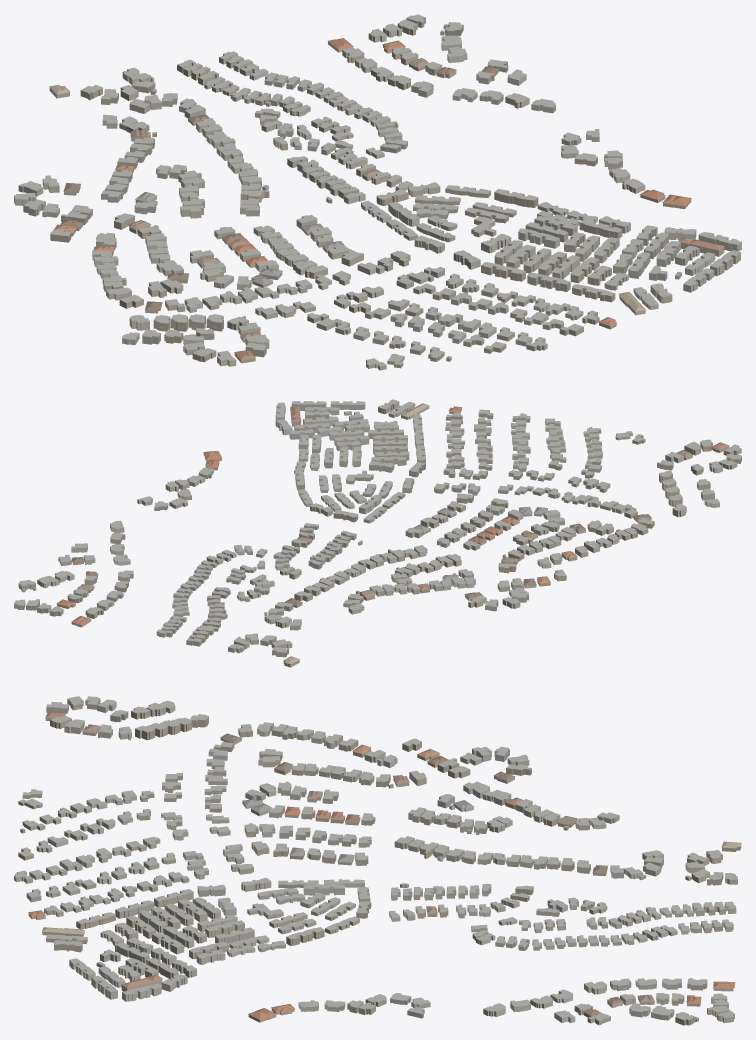
The model's file is buildings_r1_c6.glb.
3 renders of one model, top to bottom at view 1: azimuth 30°, elevation 25°; view 2: azimuth 150°, elevation 25°; view 3: azimuth 270°, elevation 25°, orthographic. The views are drawn at different scales.
Parts seen in each view (by area): view 1: buildings_r1_c6; view 2: buildings_r1_c6; view 3: buildings_r1_c6.
Part boxes in pixels (box(x1,y1,x2,y2)): buildings_r1_c6: box(14, 14, 741, 370); buildings_r1_c6: box(14, 399, 741, 667); buildings_r1_c6: box(14, 696, 741, 1025).
Size of the model in its own units: 727 by 84.9 by 805.
